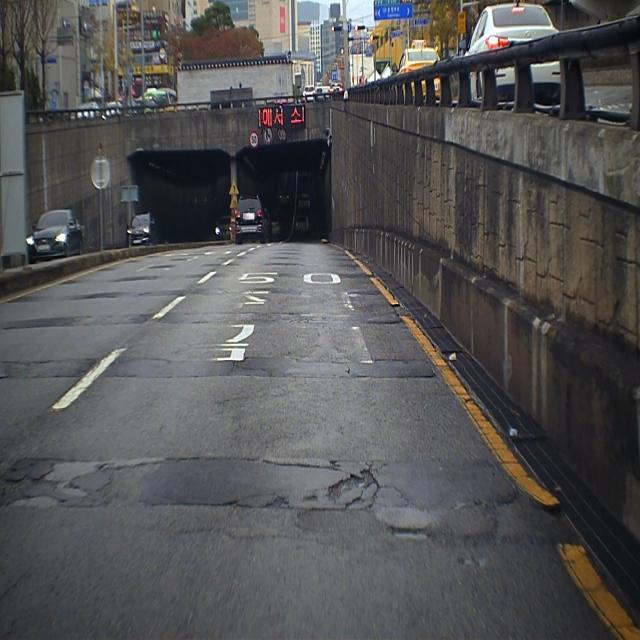Pothole: (420, 518, 498, 558), (327, 463, 382, 519), (462, 488, 524, 512), (267, 489, 291, 509)
